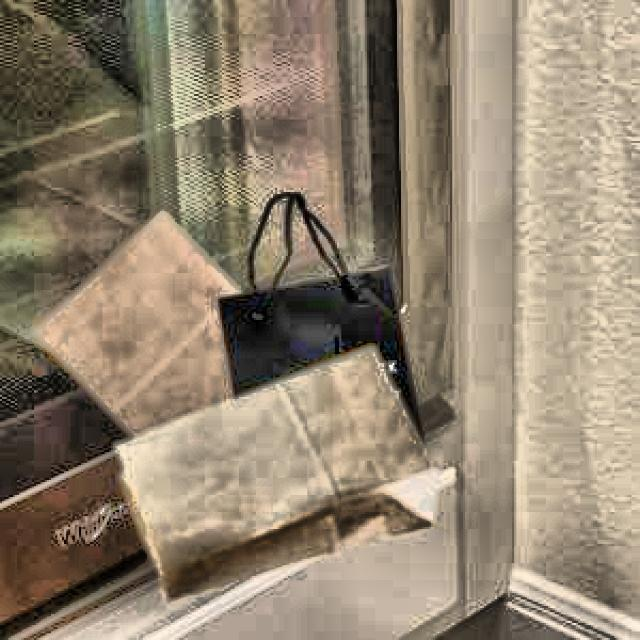Paper-bag: (26, 209, 361, 506), (109, 354, 442, 592), (218, 170, 428, 488)
